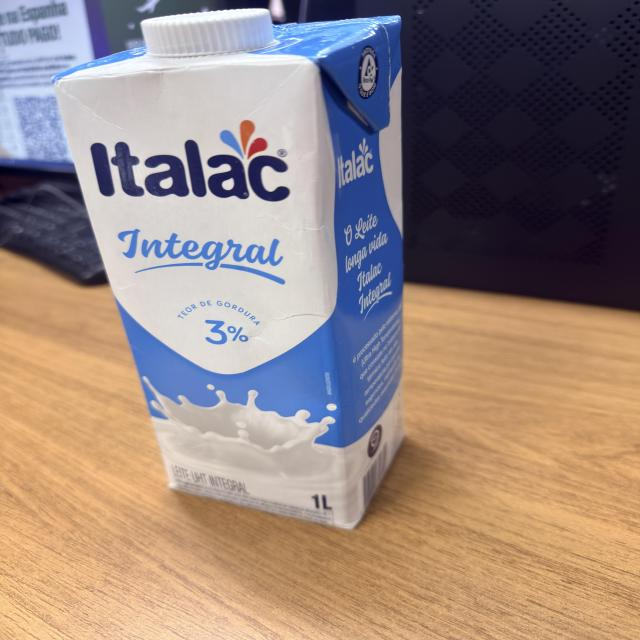Caixa de Leite: (52, 11, 402, 521)
